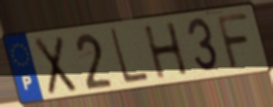2: (74, 30, 116, 92)
3: (184, 15, 221, 76)
F: (214, 11, 253, 72)
H: (141, 20, 191, 81)
L: (107, 26, 152, 87)
X: (32, 34, 79, 97)
